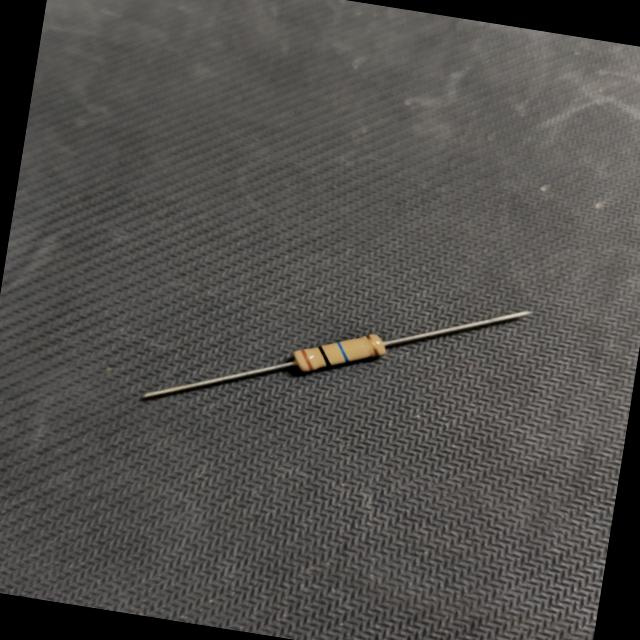resistor: (120, 237, 544, 476)
